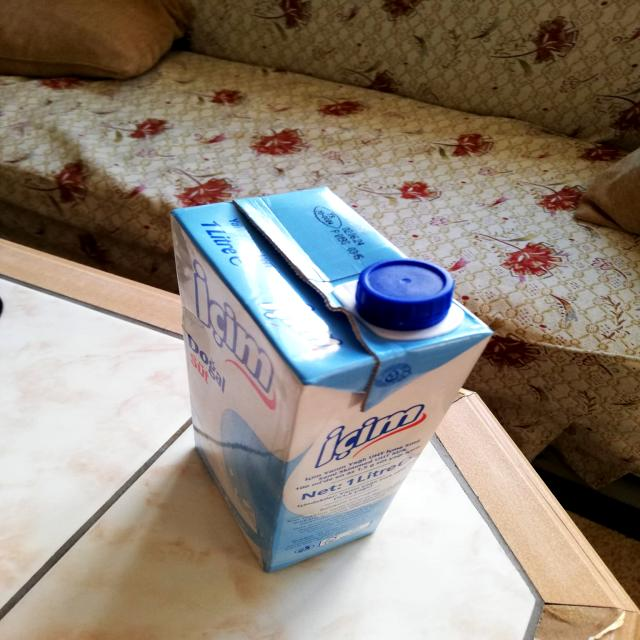milk: (179, 184, 482, 574)
